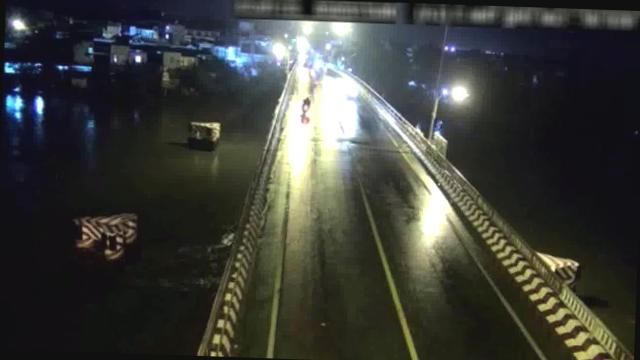Bike: (300, 94, 311, 118)
